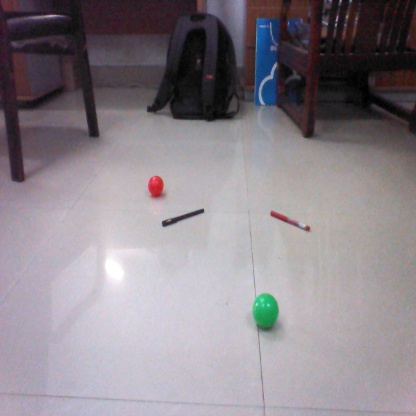ball: (253, 291, 280, 331), (143, 175, 167, 196)
pen: (270, 209, 313, 231), (161, 207, 206, 225)
